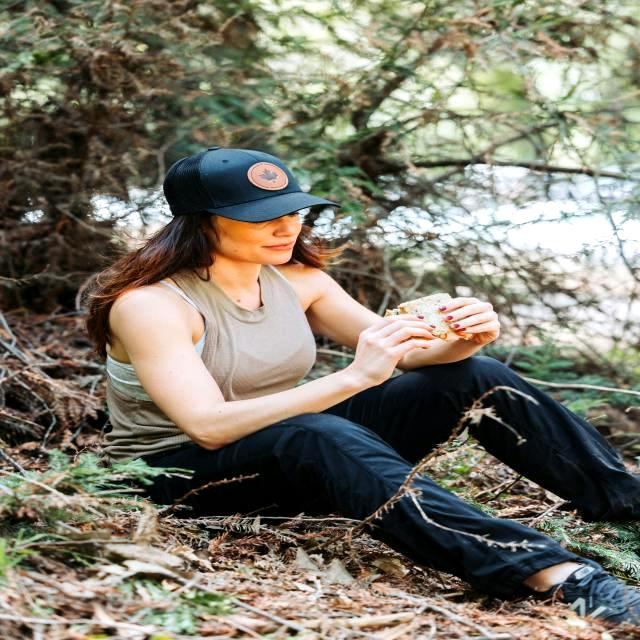no_hard_hat: (164, 149, 336, 221)
person: (76, 138, 640, 640)
